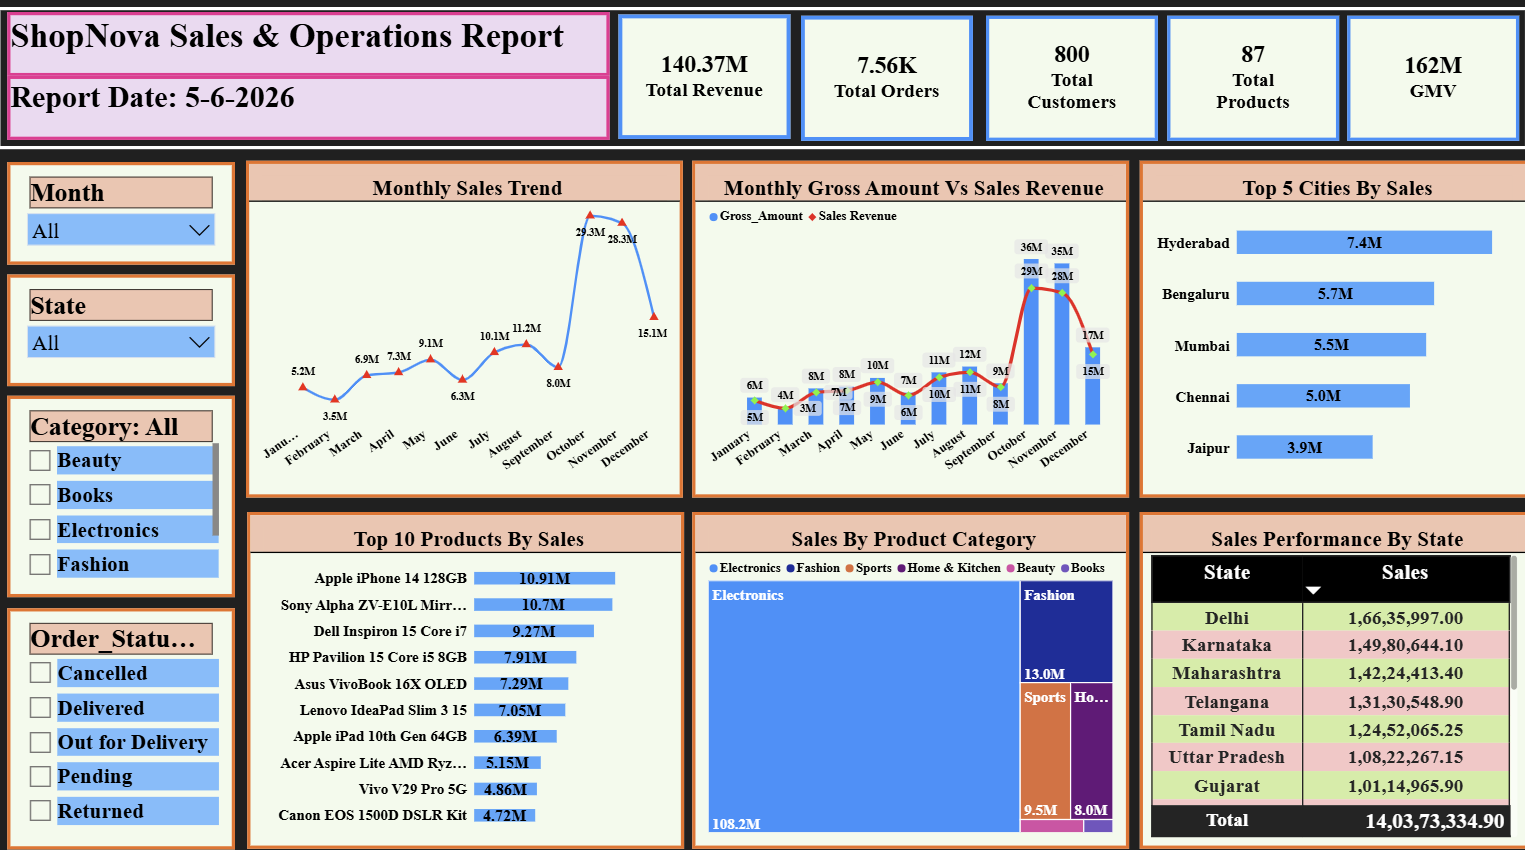

What the dashboard file says about the page in this screenshot:
{"tool":"powerbi","page":{"name":"Report","canvas":[1920,1080],"ordinal":0},"visuals":[{"type":"shape","box":[1.8,12.7,1909.2,177.3],"z":0},{"type":"treemap","title":"Sales By Product Category","fields":{"Group":["Products.Category"],"Values":["Sum(Orders.Final_Amount_INR)"]},"box":[868.6,642.4,544.7,419.8],"z":1000},{"type":"lineChart","title":"Monthly Sales Trend","fields":{"Category":["Orders.Order_Date.Variation.Date Hierarchy.Month"],"Y":["Sum(Orders.Final_Amount_INR)"]},"box":[311.3,204.5,544.7,420],"z":2000},{"type":"slicer","fields":{"Values":["Orders.Order_Date.Variation.Date Hierarchy.Month"]},"box":[14.5,205,284.1,128],"z":3000},{"type":"slicer","fields":{"Values":["Customers.State"]},"box":[14.5,345.6,284.1,139.3],"z":4000},{"type":"slicer","fields":{"Values":["Orders.Order_Status"]},"box":[14.5,761.9,284.1,300.4],"z":5000},{"type":"textbox","box":[14.5,18.1,751,79.6],"z":6000},{"type":"textbox","box":[14.5,97.7,751,79.6],"z":7000},{"type":"cardVisual","fields":{"Data":["Sum(Orders.Final_Amount_INR)"]},"box":[777,21.6,214,155],"z":8000},{"type":"cardVisual","fields":{"Data":["Sum(Orders.Gross_Amount_INR)"]},"box":[1685,23.8,214,155.8],"z":9000},{"type":"cardVisual","fields":{"Data":["Count(Orders.Order_ID)"]},"box":[1004.2,23.8,214.3,155.8],"z":10000},{"type":"lineClusteredColumnComboChart","title":"Monthly Gross Amount Vs Sales Revenue","fields":{"Category":["Orders.Order_Date.Variation.Date Hierarchy.Month"],"Y":["Sum(Orders.Gross_Amount_INR)"],"Y2":["Sum(Orders.Final_Amount_INR)"]},"box":[868.6,204.5,544.7,420],"z":11000},{"type":"barChart","title":"Top 10 Products By Sales","fields":{"Category":["Products.Product_Name"],"Y":["Sum(Orders.Final_Amount_INR)"]},"box":[313.1,642.4,544.7,420],"z":12000},{"type":"pivotTable","title":"Sales Performance By State","fields":{"Rows":["Customers.State"],"Values":["Sum(Orders.Final_Amount_INR)"]},"box":[1426,642.4,485,419.8],"z":13000},{"type":"barChart","title":"Top 5 Cities By Sales","fields":{"Category":["Customers.City"],"Y":["Sum(Orders.Final_Amount_INR)"]},"box":[1426,204.5,485,419.8],"z":14000},{"type":"cardVisual","fields":{"Data":["Count(Customers.Customer_ID)"]},"box":[1234,23.8,214.3,155.8],"z":15000},{"type":"cardVisual","fields":{"Data":["Count(Products.Product_Name)"]},"box":[1460.8,23.8,214.3,155.8],"z":16000},{"type":"slicer","fields":{"Values":["Products.Category"]},"box":[14.5,497.7,284.1,251.5],"z":17000}]}

Visuals, with their boxes in screenshot pixels (x1, y1, x2, y2), scaled from the page's 1920x1080 canvas onto the 1525x850 screenshot:
shape: 1 10 1518 150
"Sales By Product Category" treemap: 690 506 1123 836
"Monthly Sales Trend" lineChart: 247 161 680 492
slicer - Orders.Order_Date.Variation.Date Hierarchy.Month: 12 161 237 262
slicer - Customers.State: 12 272 237 382
slicer - Orders.Order_Status: 12 600 237 836
textbox: 12 14 608 77
textbox: 12 77 608 140
cardVisual - Sum(Orders.Final_Amount_INR): 617 17 787 139
cardVisual - Sum(Orders.Gross_Amount_INR): 1338 19 1508 141
cardVisual - Count(Orders.Order_ID): 798 19 968 141
"Monthly Gross Amount Vs Sales Revenue" lineClusteredColumnComboChart: 690 161 1123 492
"Top 10 Products By Sales" barChart: 249 506 681 836
"Sales Performance By State" pivotTable: 1133 506 1518 836
"Top 5 Cities By Sales" barChart: 1133 161 1518 491
cardVisual - Count(Customers.Customer_ID): 980 19 1150 141
cardVisual - Count(Products.Product_Name): 1160 19 1330 141
slicer - Products.Category: 12 392 237 590
